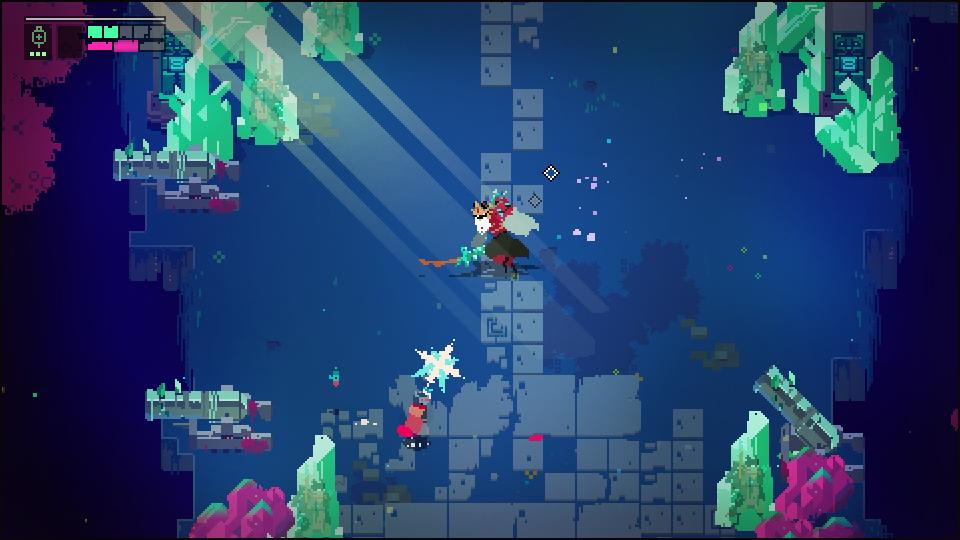hanged_man: (442, 184, 543, 280)
player: (393, 388, 433, 444)
